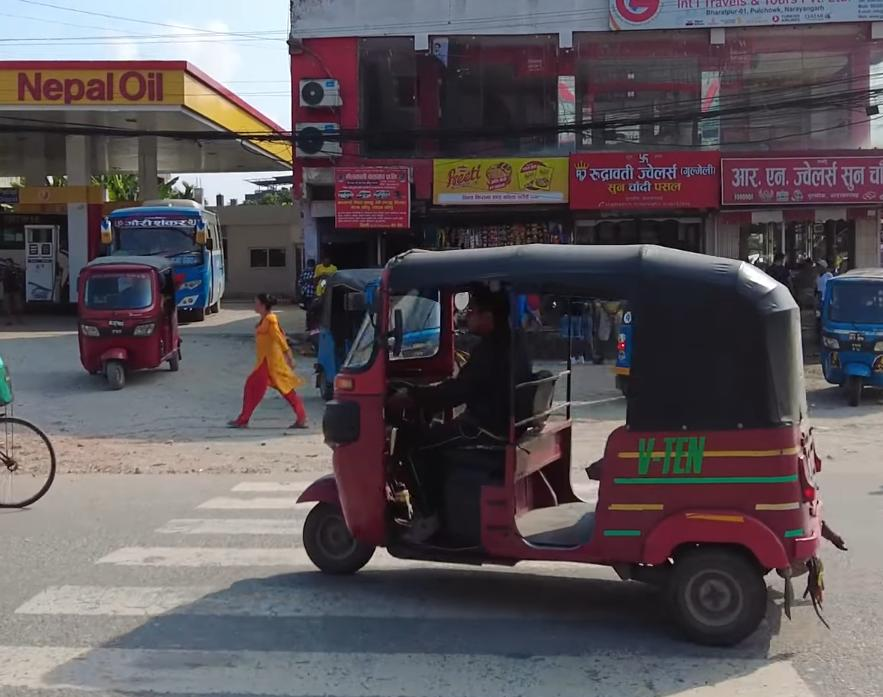auto_rickshaw: (287, 224, 843, 652), (73, 252, 192, 393), (818, 265, 883, 408)
bus: (99, 190, 233, 324)
